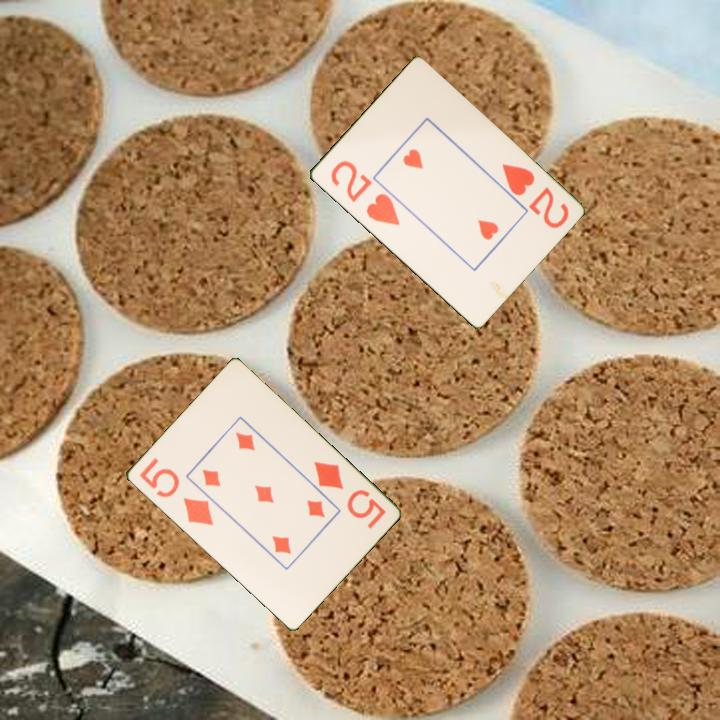2h: (327, 157, 403, 229), (498, 160, 572, 231)
5d: (135, 454, 216, 529), (310, 458, 389, 532)
